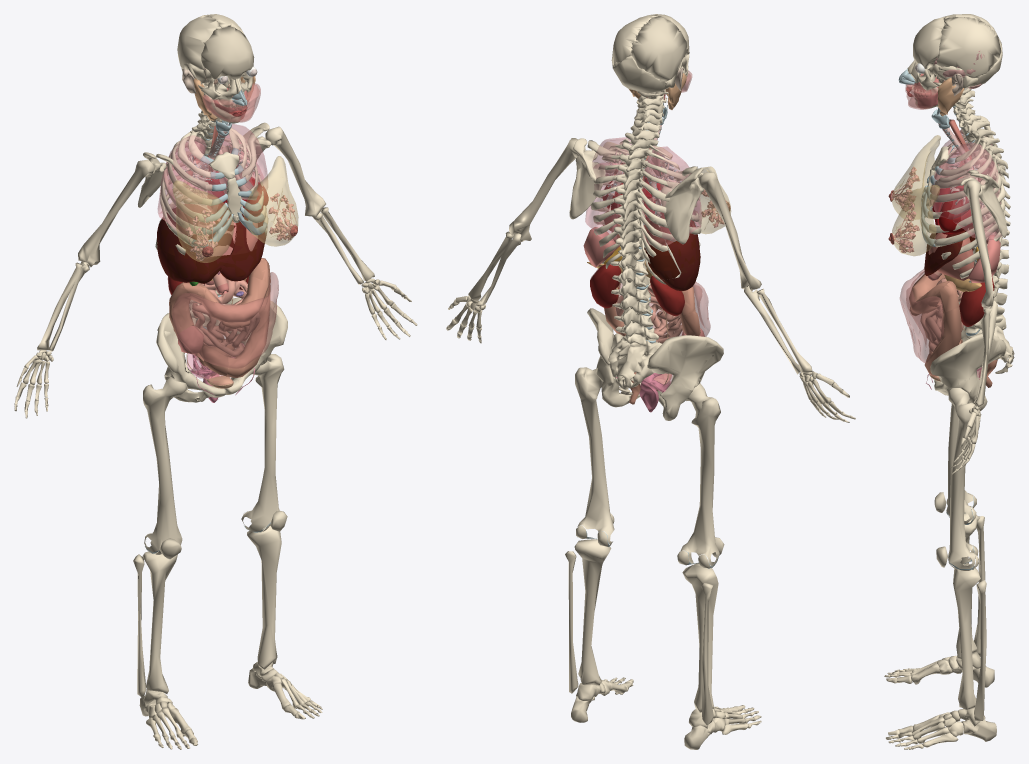
The model's file is f-organs.glb.
The picture shows the model from 3 angles, left to right: view 1: azimuth 30°, elevation 25°; view 2: azimuth 150°, elevation 25°; view 3: azimuth 270°, elevation 25°; orthographic projection. The views are drawn at different scales.
Parts seen in each view (by area): view 1: bone, glass, organ, heart; view 2: bone, organ, glass; view 3: bone, organ, glass, heart.
Part boxes in pixels (box(x1,y1,x2,y2)): bone: box(14, 14, 417, 749); glass: box(157, 83, 298, 385); organ: box(155, 66, 297, 402); heart: box(204, 171, 268, 217); bone: box(446, 14, 855, 749); organ: box(583, 45, 730, 412); glass: box(585, 70, 731, 390); bone: box(884, 14, 1014, 749); organ: box(888, 45, 1000, 389); glass: box(892, 80, 1001, 378); heart: box(932, 179, 972, 234).
Bounding box in the file's own units: 1.01 × 1.66 × 0.2809.
